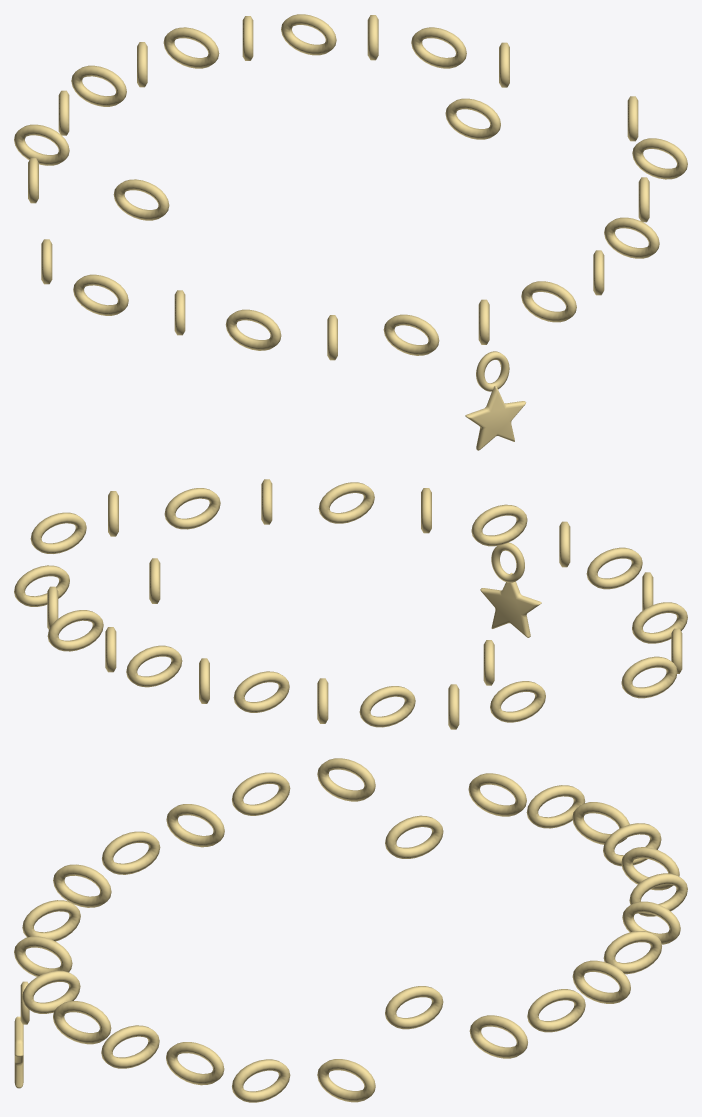
File: chain_gold_penguin_tailored.glb
The picture shows the model from 3 angles, top to bottom: view 1: azimuth 30°, elevation 25°; view 2: azimuth 150°, elevation 25°; view 3: azimuth 270°, elevation 25°; orthographic projection. The views are drawn at different scales.
Parts seen in each view (by area): view 1: Estrella, Eslabón.003, Eslabón.005, Eslabón.013, Eslabón.001, Eslabón.009, Eslabón.015, Eslabón.021, Eslabón.019, Eslabón.023, Eslabón.007, Eslabón.011 (+3 smaller); view 2: Estrella, Eslabón.020, Eslabón.024, Eslabón, Eslabón.006, Eslabón.010, Eslabón.012, Eslabón.014, Eslabón.016, Eslabón.002, Eslabón.004, Eslabón.018 (+16 smaller); view 3: Eslabón.008, Eslabón.007, Eslabón.023, Eslabón.005, Eslabón.006, Eslabón.018, Eslabón.022, Eslabón.010, Eslabón.020, Eslabón.009, Eslabón.019, Eslabón.021 (+15 smaller).
Part boxes in pixels (x1,y1,x2,y2): Estrella: [465, 386, 525, 450]; Eslabón.003: [604, 217, 659, 258]; Eslabón.005: [632, 138, 687, 179]; Eslabón.013: [163, 27, 219, 68]; Eslabón.001: [521, 281, 576, 322]; Eslabón.009: [411, 27, 466, 68]; Eslabón.015: [71, 65, 126, 106]; Eslabón.021: [73, 274, 128, 315]; Eslabón.019: [113, 179, 169, 220]; Eslabón.023: [225, 309, 281, 350]; Eslabón.007: [445, 98, 500, 139]; Eslabón.011: [281, 14, 336, 55]; Estrella: [480, 573, 541, 637]; Eslabón.020: [621, 656, 677, 698]; Eslabón.024: [586, 547, 642, 589]; Eslabón: [471, 504, 527, 546]; Eslabón.006: [30, 512, 86, 553]; Eslabón.010: [47, 610, 103, 651]; Eslabón.012: [126, 645, 182, 687]; Eslabón.014: [233, 671, 289, 712]; Eslabón.016: [359, 686, 415, 727]; Eslabón.002: [318, 482, 374, 523]; Eslabón.004: [164, 488, 220, 529]; Eslabón.018: [490, 681, 545, 722]; Eslabón.008: [469, 1015, 527, 1058]; Eslabón.007: [385, 986, 443, 1029]; Eslabón.023: [102, 831, 160, 874]; Eslabón.005: [232, 1059, 290, 1102]; Eslabón.006: [317, 1059, 375, 1102]; Eslabón.018: [468, 773, 526, 816]; Eslabón.022: [166, 804, 224, 847]; Eslabón.010: [572, 960, 630, 1003]; Eslabón.020: [317, 758, 375, 801]; Eslabón.009: [527, 989, 585, 1032]; Eslabón.019: [385, 815, 443, 858]; Eslabón.021: [232, 772, 290, 815].
Size of the model in its own units: 0.4958 by 0.1488 by 0.4464.
